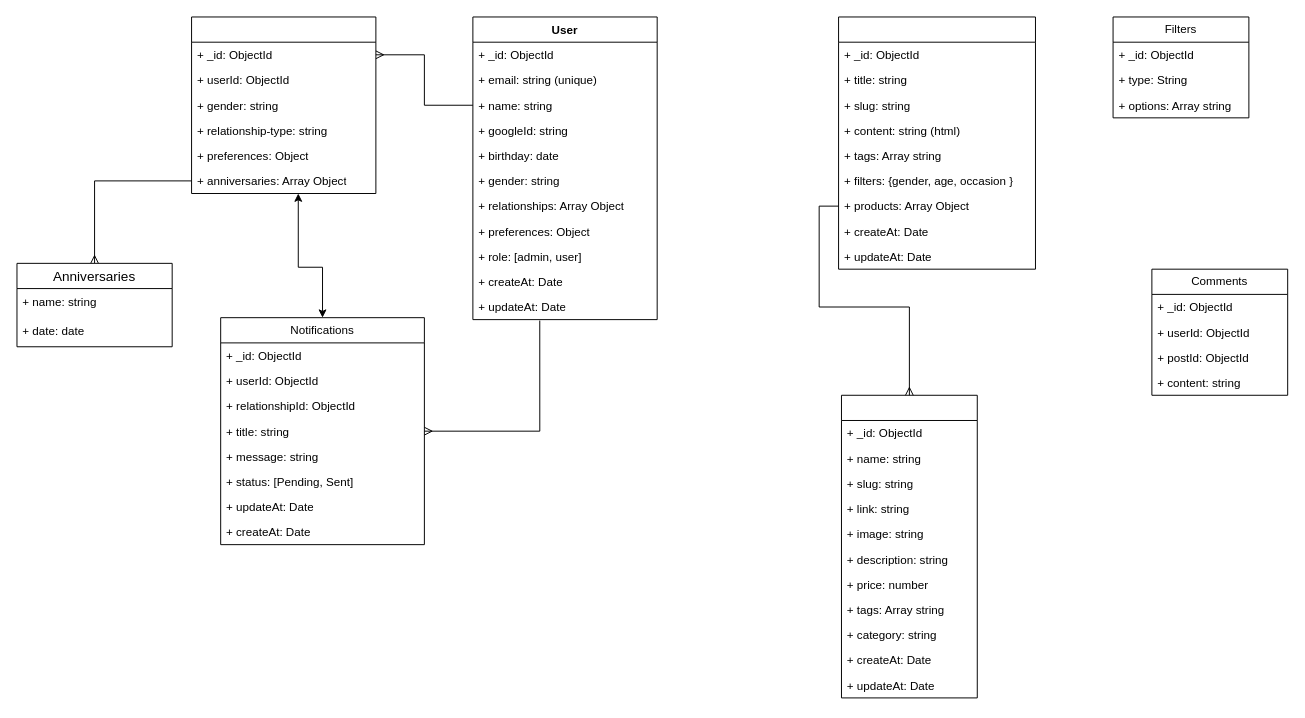
The diagram is 1305 pixels wide and 718 high, and some of its shapes have lost their labels. Here are the shapes that lost their labels. From the top down, the box of each, then its label:
(191, 16, 376, 194): Relationships
(838, 16, 1035, 269): Posts
(841, 394, 977, 698): Products
